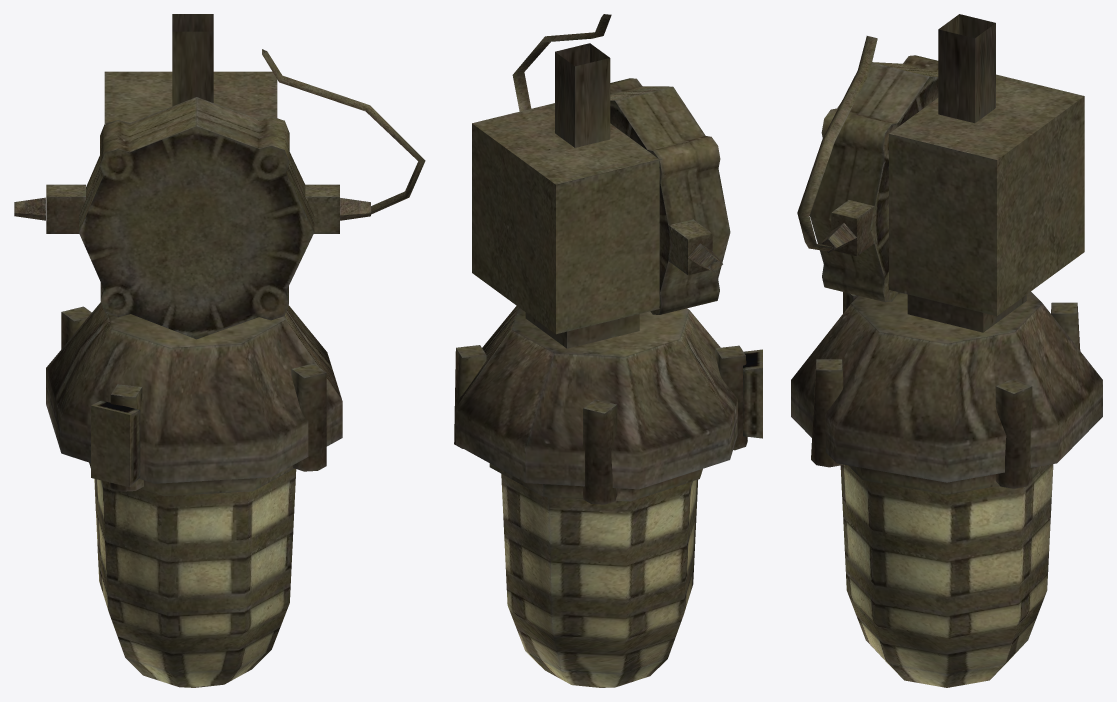
File: Industrial_Light_1.fbx
3 views of the same model, side by side, from view 1: azimuth 30°, elevation 25°; view 2: azimuth 150°, elevation 25°; view 3: azimuth 270°, elevation 25° (orthographic). The views are drawn at different scales.
Visible parts, largest first — view 1: Industrial_Light_1; view 2: Industrial_Light_1; view 3: Industrial_Light_1.
Boxes of the visible parts, x1=… form: Industrial_Light_1: x1=14, y1=14, x2=425, y2=687; Industrial_Light_1: x1=454, y1=14, x2=762, y2=687; Industrial_Light_1: x1=791, y1=14, x2=1102, y2=687.
Size of the model in its own units: 7.73 by 15.53 by 6.59.
1 material, 1 textured.
